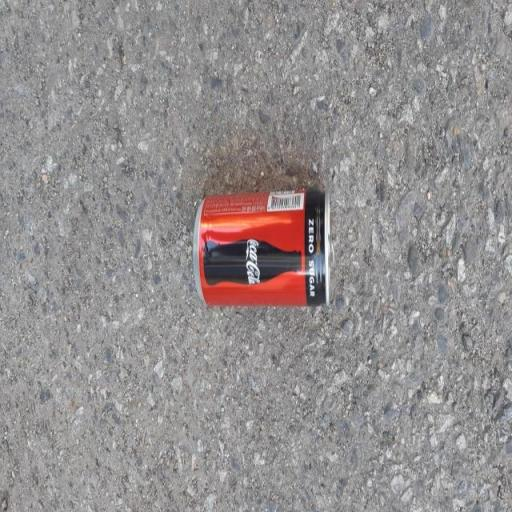metal: (178, 176, 372, 366)
